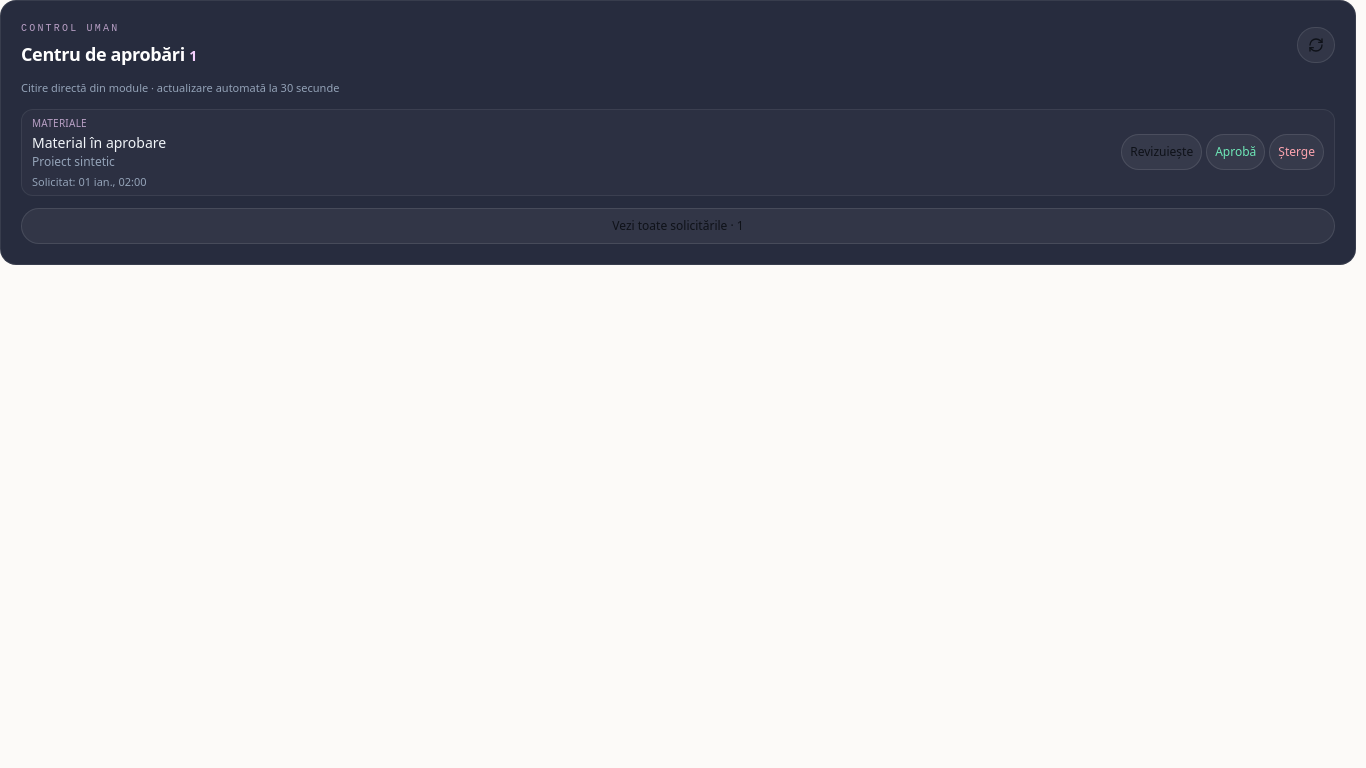
Test: Unified approval center › shows a recoverable refresh error inside the open list and retains the previous requests
The width and height of the screenshot is (1366, 768).
Expected: the text "Material în aprobare" is shown, [32,132,166,152]
Click the button "Vezi toate solicitările · 1": (678, 226) [21,208,1335,244]
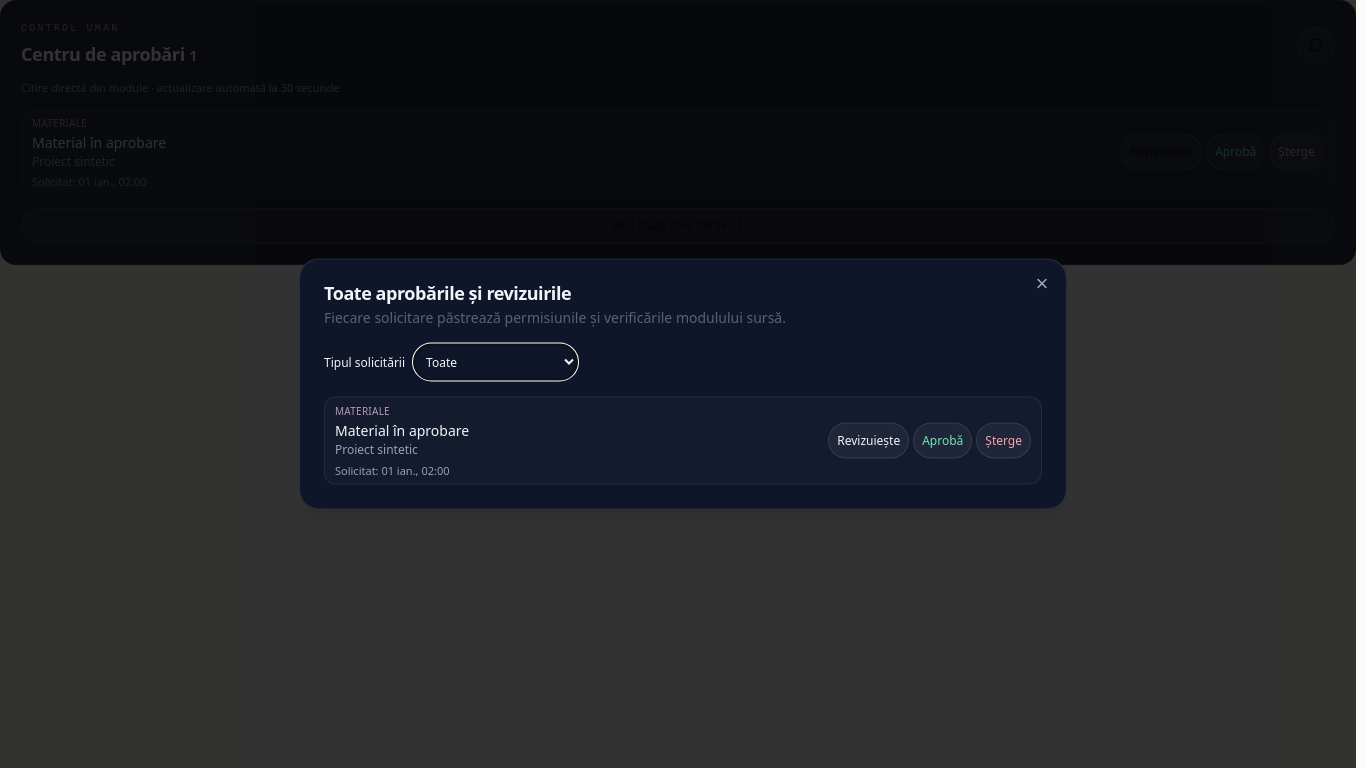
Select "Materiale" in the dropdown: (496, 362) [413,344,578,381]
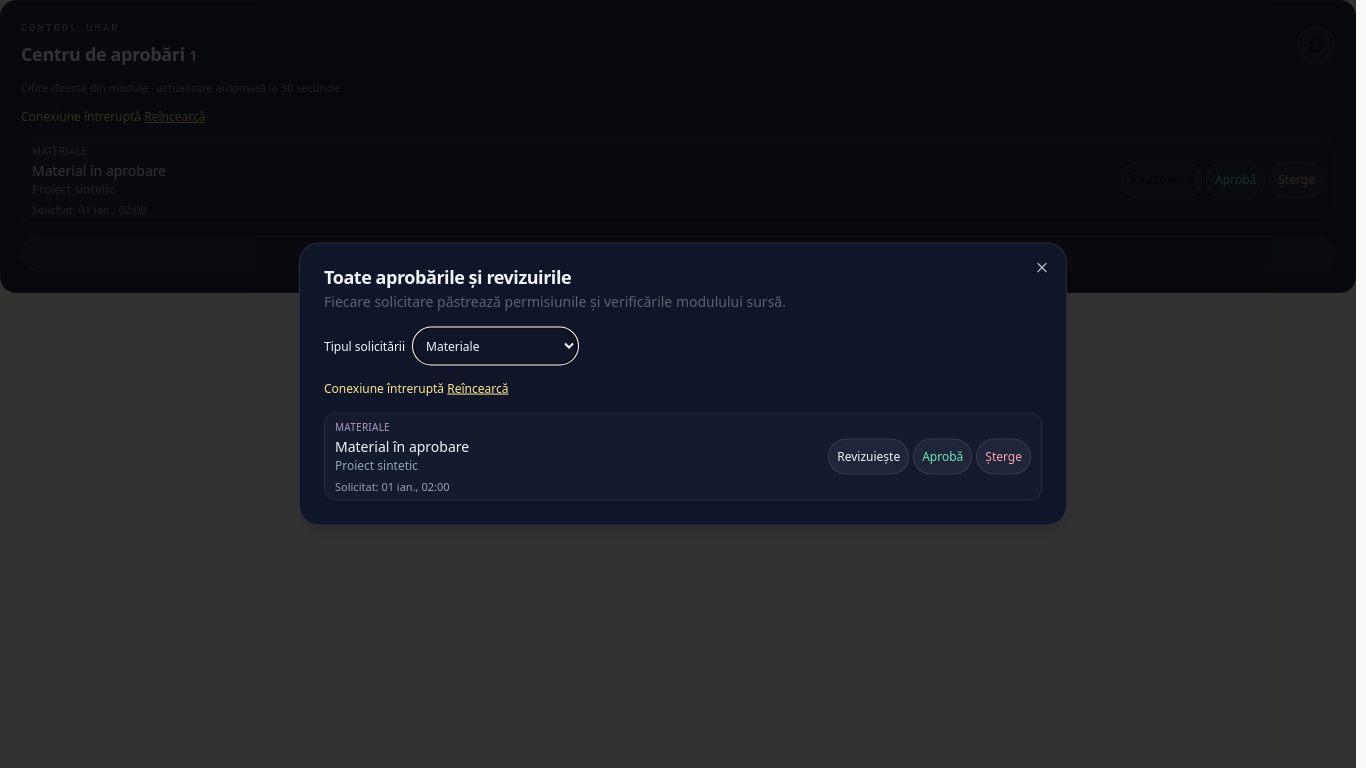
Expected: the text "Material în aprobare" is shown, [335,437,469,456]
Expected: the message shows "Conexiune întreruptă", [324,380,444,397]
Click the button "Reîncearcă": (478, 389) [447,381,508,397]
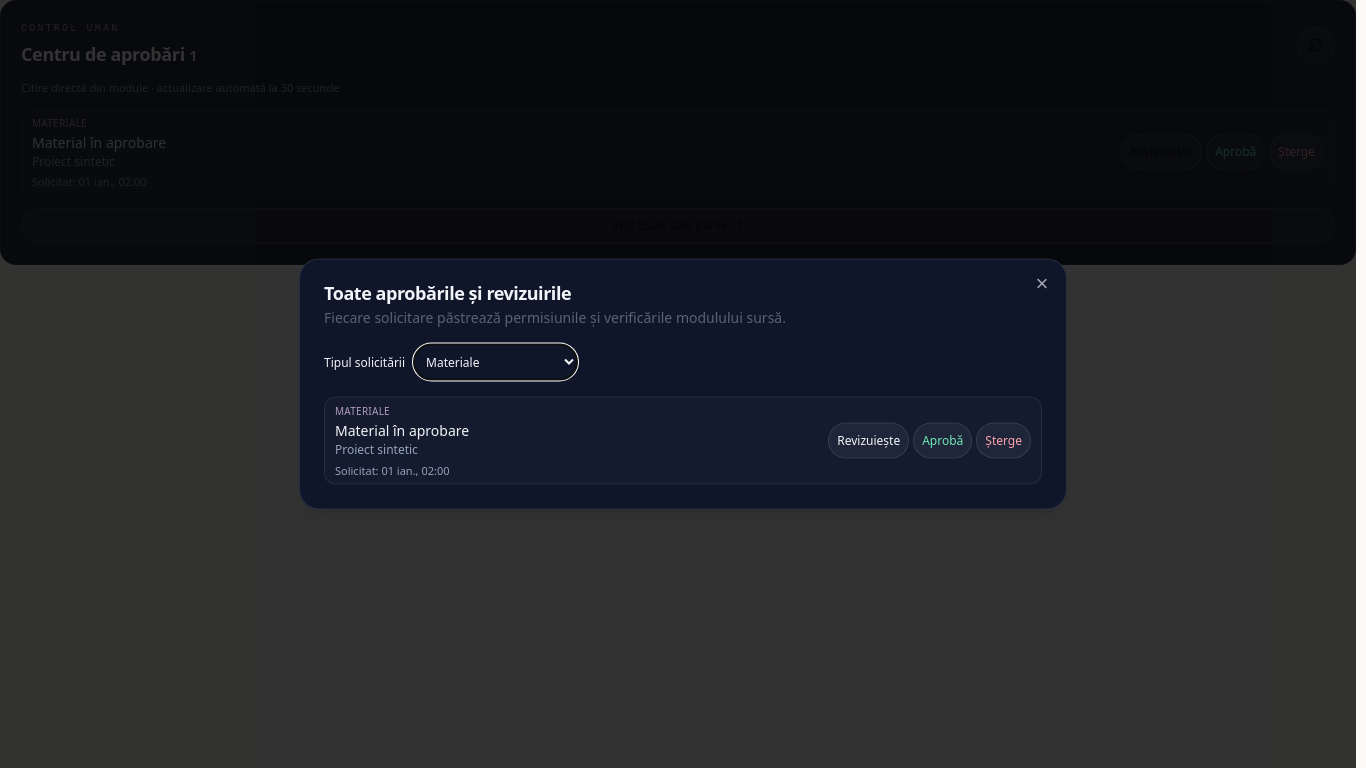
Expected: the message "Conexiune întreruptă Reîncearcă" is gone
